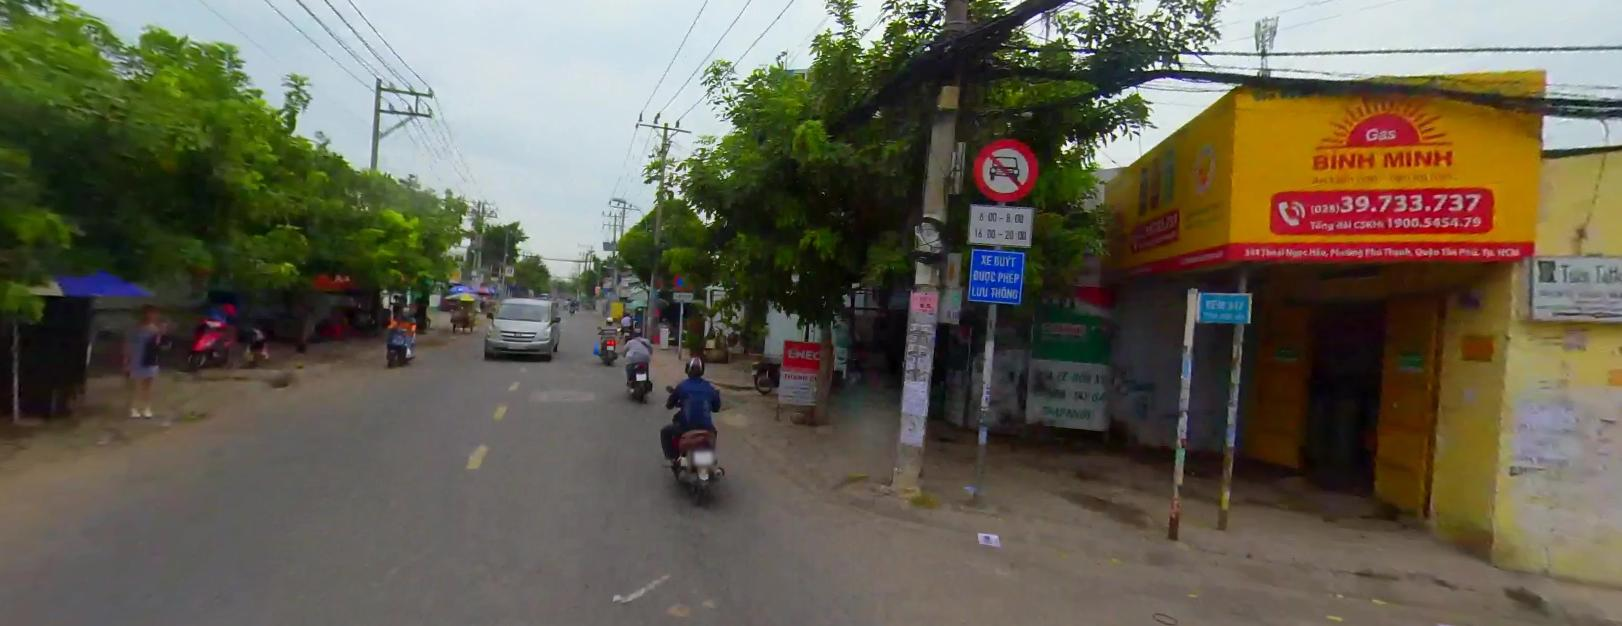Cam con lai: (971, 132, 1038, 203)
Cam dung va do: (672, 268, 695, 290)
